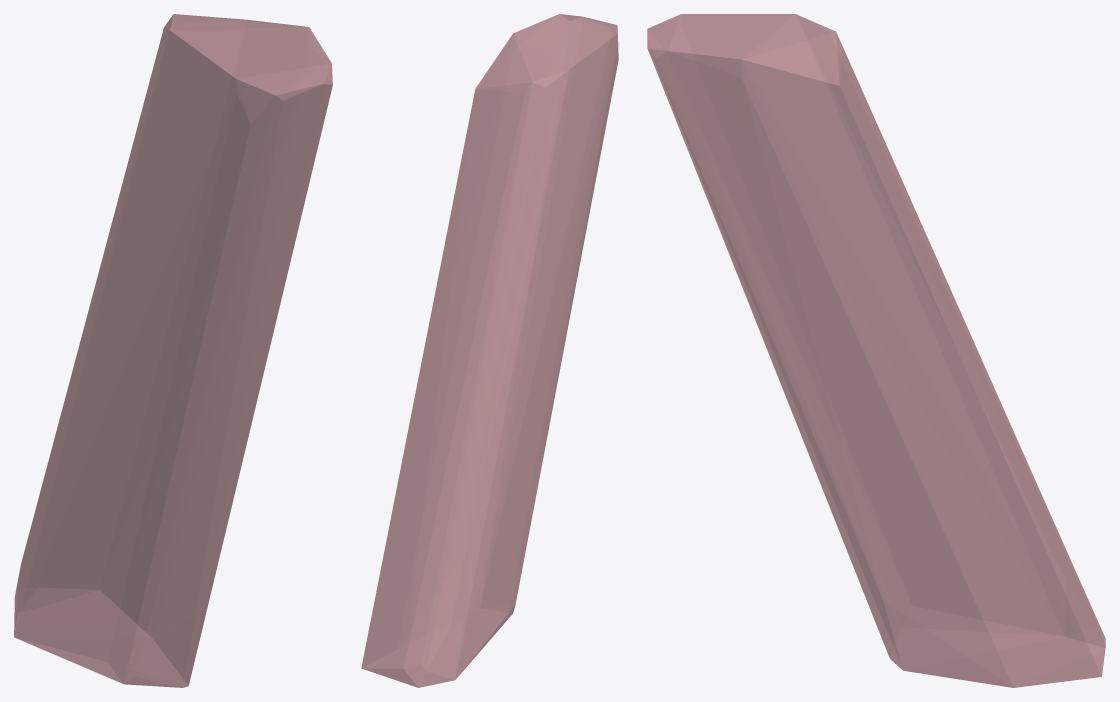
The picture shows the model from 3 angles, left to right: view 1: azimuth 30°, elevation 25°; view 2: azimuth 150°, elevation 25°; view 3: azimuth 270°, elevation 25°; orthographic projection. The views are drawn at different scales.
Visible parts, largest first — view 1: Shape_IndexedFaceSet.004_Shape_IndexedFaceSet.409; view 2: Shape_IndexedFaceSet.004_Shape_IndexedFaceSet.409; view 3: Shape_IndexedFaceSet.004_Shape_IndexedFaceSet.409.
Part boxes in pixels (x1,y1,x2,y2): Shape_IndexedFaceSet.004_Shape_IndexedFaceSet.409: (14,14,332,687); Shape_IndexedFaceSet.004_Shape_IndexedFaceSet.409: (361,14,618,687); Shape_IndexedFaceSet.004_Shape_IndexedFaceSet.409: (647,14,1105,687).
Bounding box in the file's own units: 0.0586 × 0.3735 × 0.2469.
